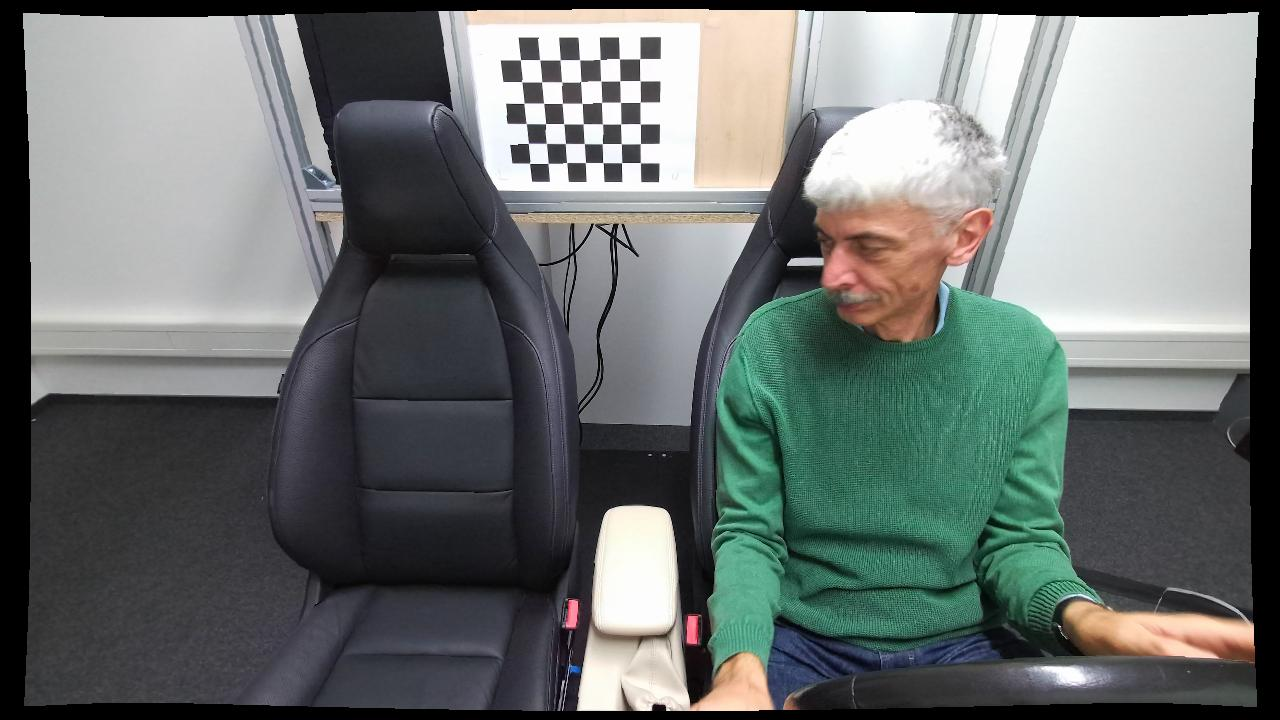Distracted: (695, 97, 1071, 705)
